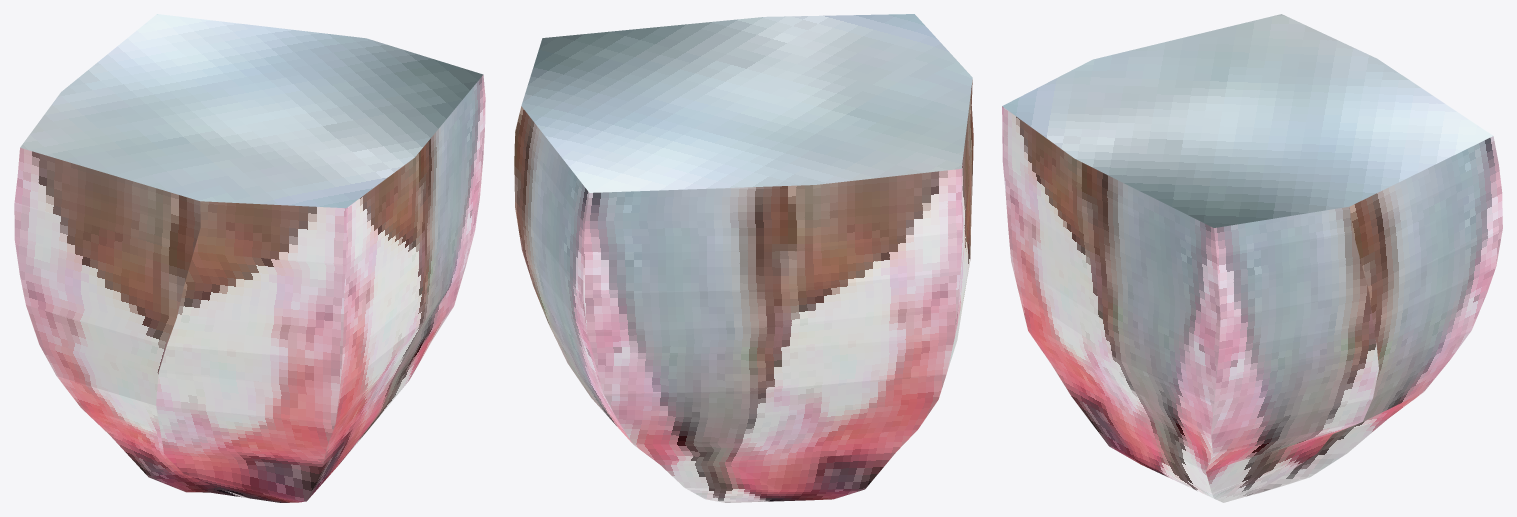
The picture shows the model from 3 angles, left to right: view 1: azimuth 30°, elevation 25°; view 2: azimuth 150°, elevation 25°; view 3: azimuth 270°, elevation 25°; orthographic projection. The views are drawn at different scales.
Visible parts, largest first — view 1: SPLICE_1.002; view 2: SPLICE_1.002; view 3: SPLICE_1.002.
Boxes of the visible parts, <box> form: SPLICE_1.002: <box>14,14,485,502</box>; SPLICE_1.002: <box>514,14,973,502</box>; SPLICE_1.002: <box>1002,14,1502,502</box>.
Bounding box in the file's own units: 0.9315 × 0.7697 × 0.934.
Materials: 1 (1 with a texture image).
